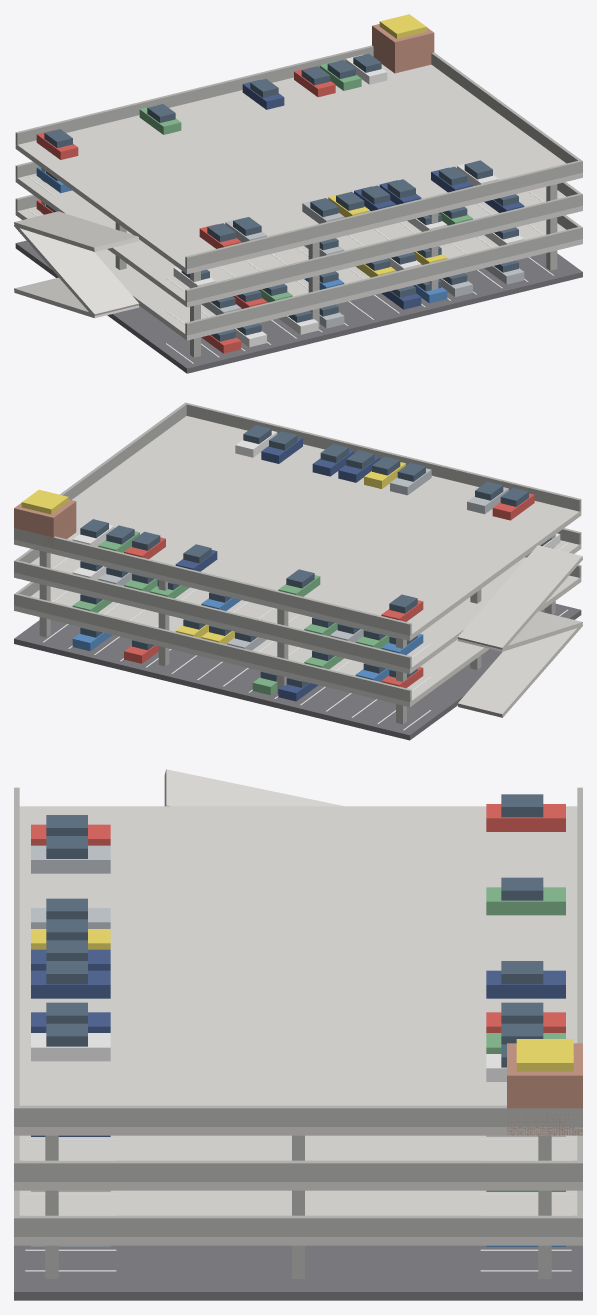
File: parking.glb
The picture shows the model from 3 angles, top to bottom: view 1: azimuth 30°, elevation 25°; view 2: azimuth 150°, elevation 25°; view 3: azimuth 270°, elevation 25°; orthographic projection. The views are drawn at different scales.
Parts seen in each view (by area): view 1: body; view 2: body; view 3: body.
Boxes of the visible parts, bbox=[...] form: body: bbox=[14, 14, 582, 373]; body: bbox=[14, 402, 582, 740]; body: bbox=[14, 769, 582, 1300].
Size of the model in its own units: 44.75 by 13.6 by 30.
